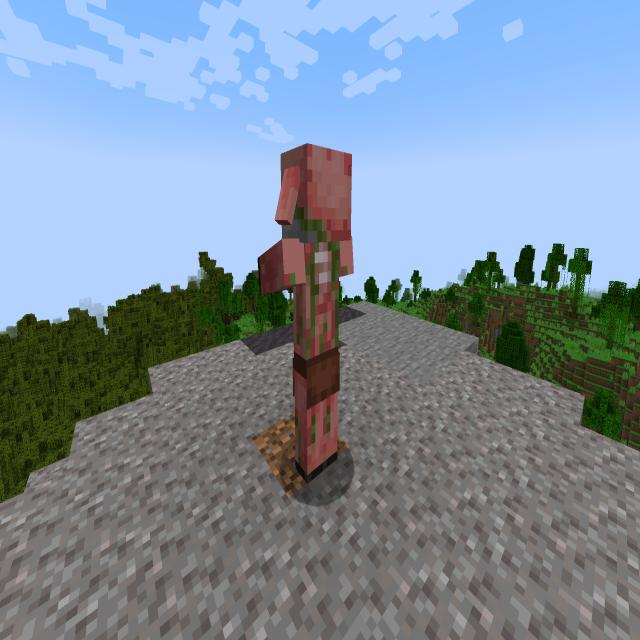Zombified Piglin: (247, 130, 363, 494)
